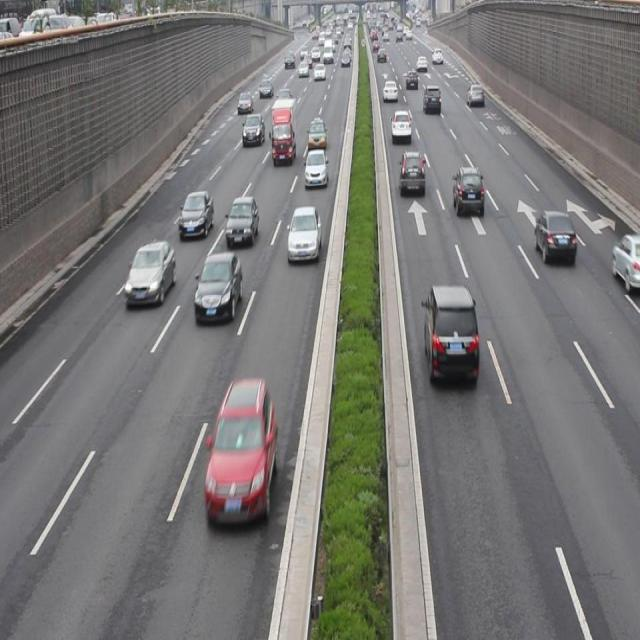bus: (270, 95, 296, 163)
car: (203, 377, 277, 523), (423, 282, 479, 384), (194, 251, 242, 324), (124, 241, 175, 309), (533, 207, 575, 264), (286, 205, 321, 261), (224, 194, 258, 246), (178, 189, 213, 239), (612, 231, 640, 293), (452, 164, 484, 218), (397, 149, 425, 196), (304, 149, 328, 188), (242, 111, 264, 147), (391, 109, 412, 141), (307, 118, 326, 149)
